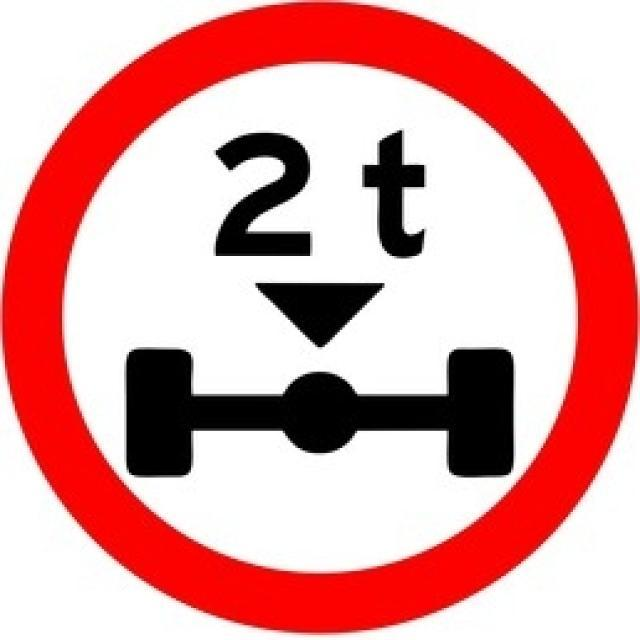axle load limit: (16, 16, 626, 626)
